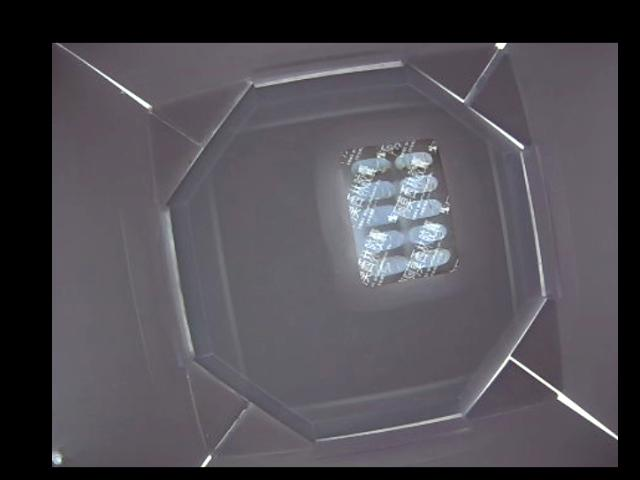Medicine: (340, 138, 461, 286)
